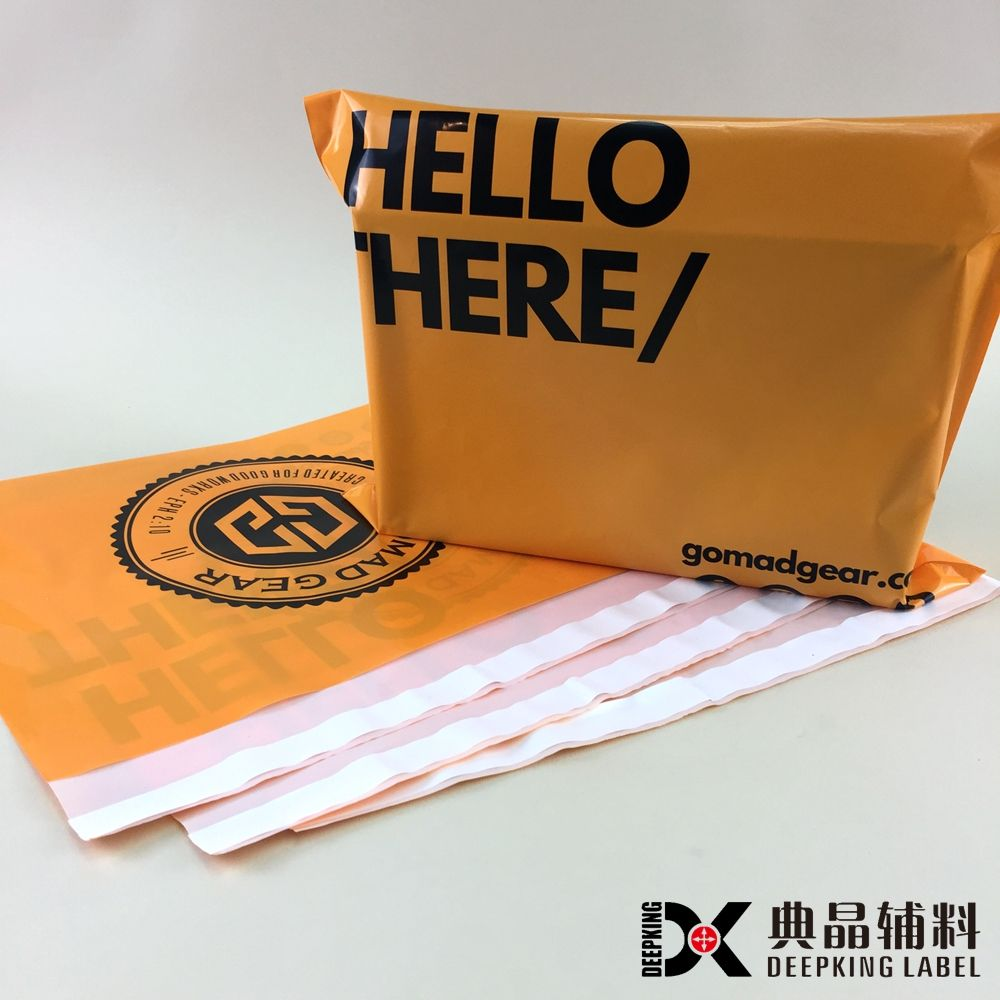塑料袋: (0, 428, 1000, 854), (332, 94, 1000, 607)
